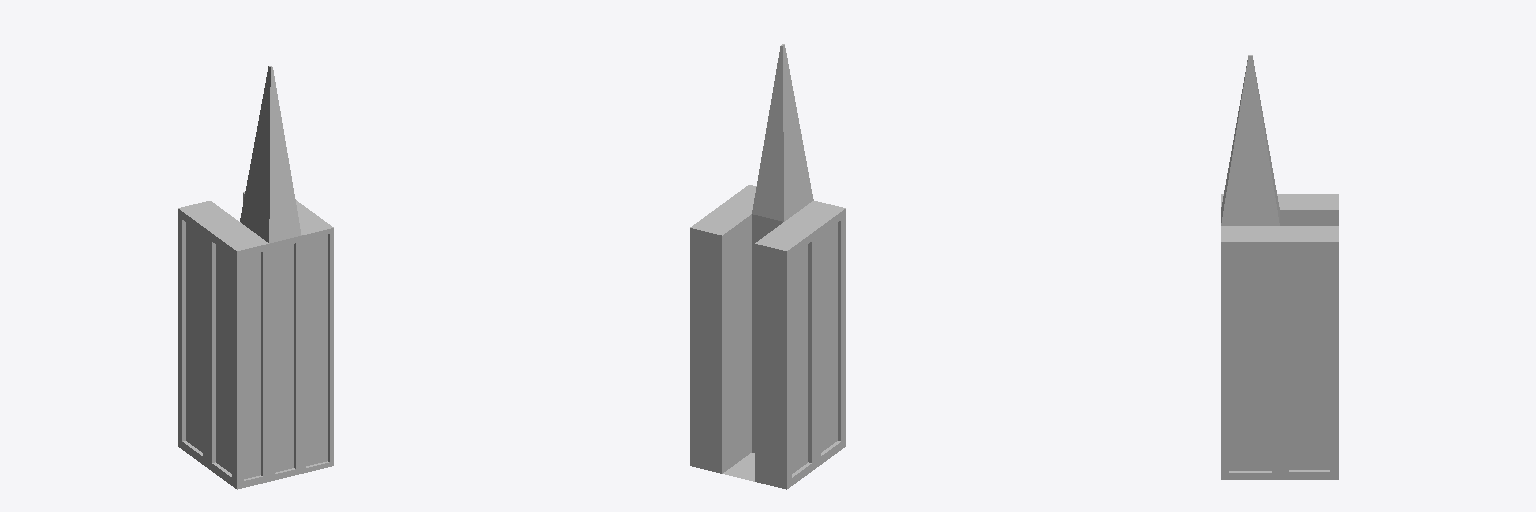
The model's file is Edificio1.obj.
3 views of the same model, side by side, from view 1: azimuth 30°, elevation 25°; view 2: azimuth 150°, elevation 25°; view 3: azimuth 270°, elevation 25° (orthographic).
Visible parts, largest first — view 1: Cube.003; view 2: Cube.003; view 3: Cube.003.
Boxes of the visible parts, x1=… form: Cube.003: x1=178, y1=66, x2=333, y2=489; Cube.003: x1=690, y1=44, x2=845, y2=489; Cube.003: x1=1221, y1=55, x2=1338, y2=479.
Size of the model in its own units: 1.56 by 6.16 by 1.64.